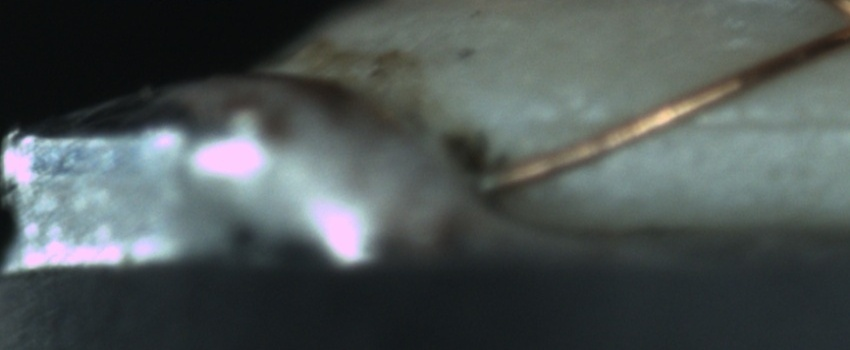DL: (545, 94, 850, 154)
